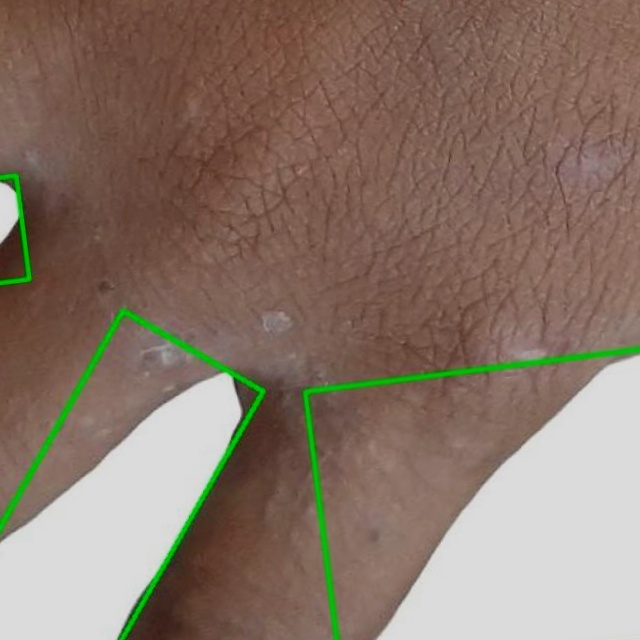Scabies: (305, 349, 639, 639), (0, 311, 263, 639)
